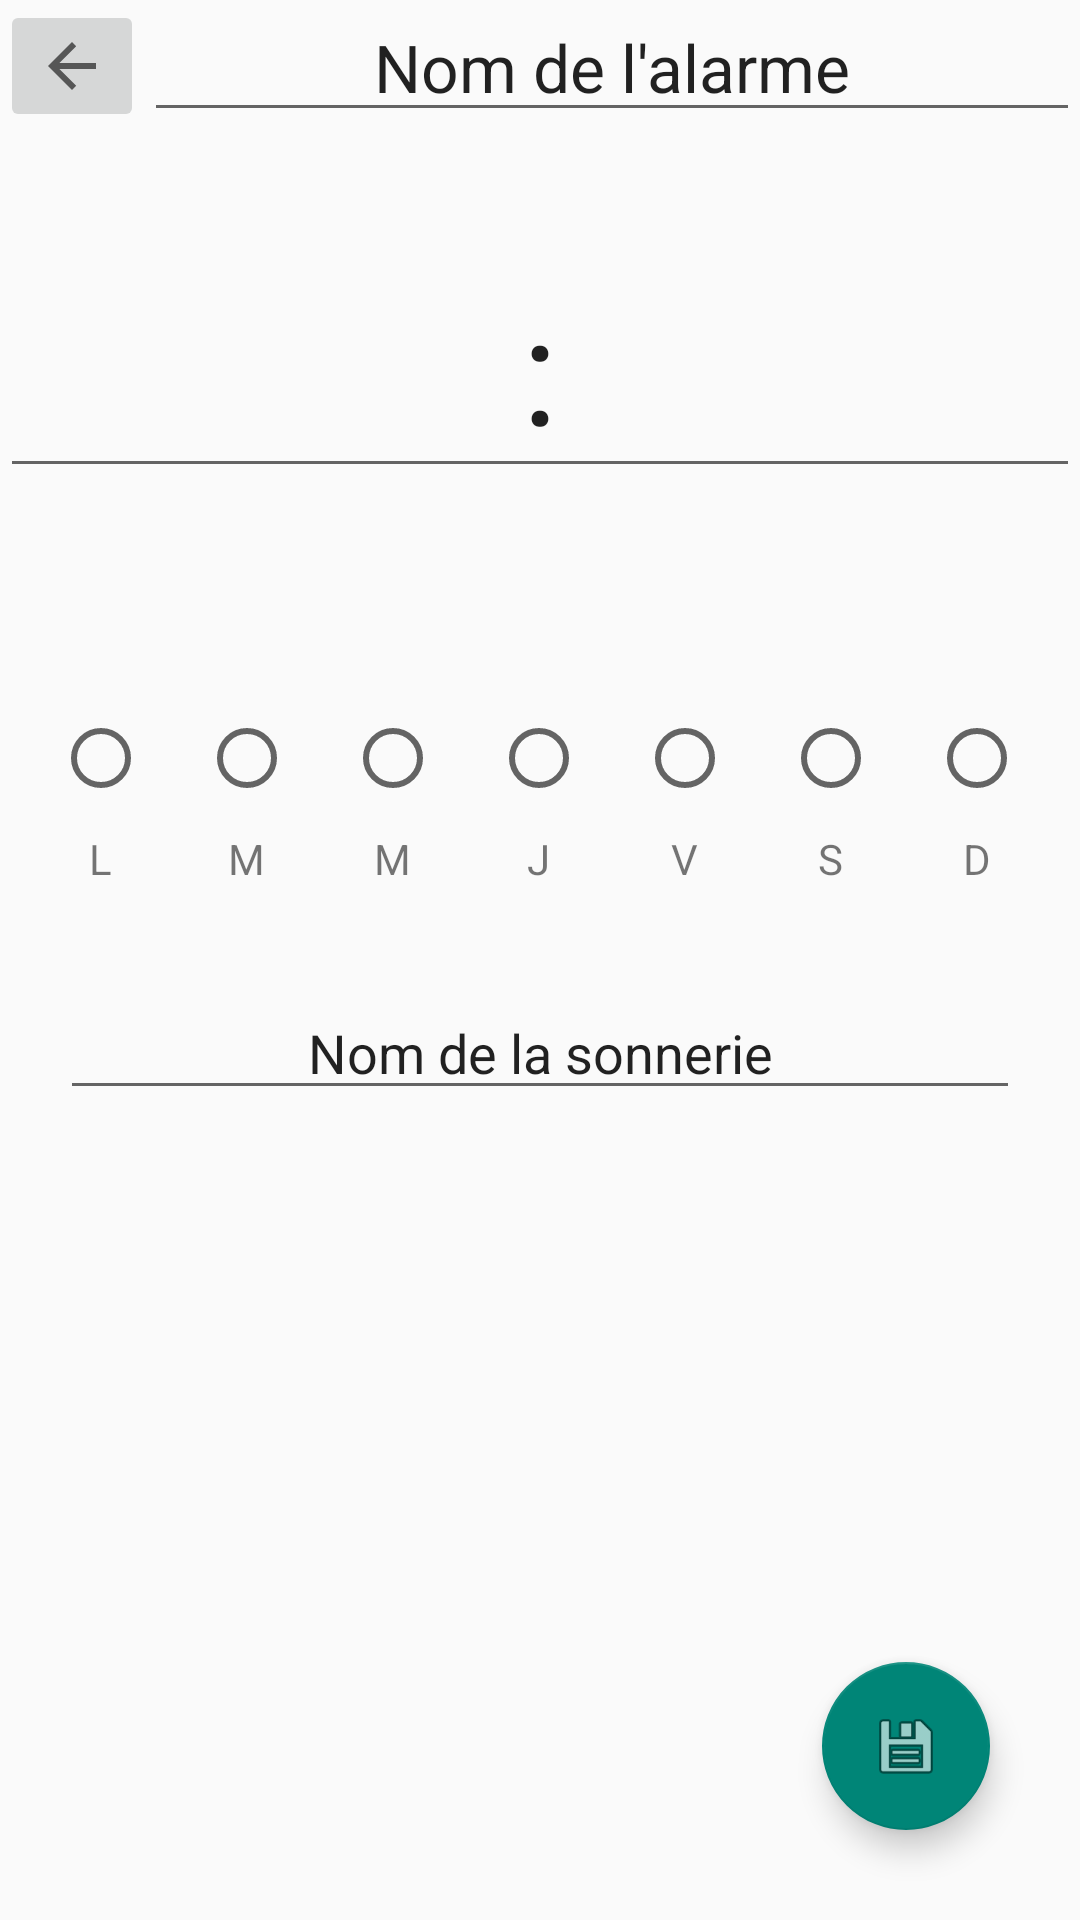

Icons on this 1080 × 1920 Android screen, each with its box as detection(x1, y1, x2, y2):
save: detection(822, 1662, 990, 1830)
